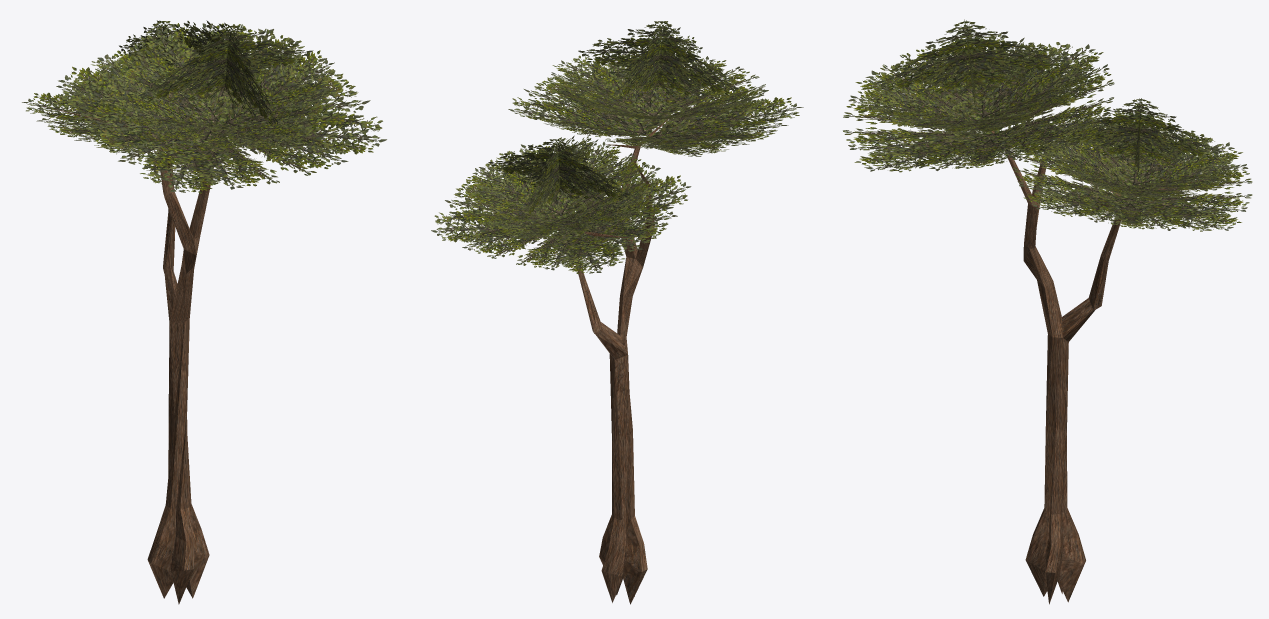
The model's file is decd_dath_fuourn_l1.fbx.
3 views of the same model, side by side, from view 1: azimuth 30°, elevation 25°; view 2: azimuth 150°, elevation 25°; view 3: azimuth 270°, elevation 25° (orthographic). The views are drawn at different scales.
Parts seen in each view (by area): view 1: mesh_node; view 2: mesh_node; view 3: mesh_node.
Boxes of the visible parts, bbox=[...] form: mesh_node: bbox=[22, 20, 386, 604]; mesh_node: bbox=[431, 21, 803, 604]; mesh_node: bbox=[843, 19, 1252, 604].
Bounding box in the file's own units: 36.01 × 75.57 × 48.28.
